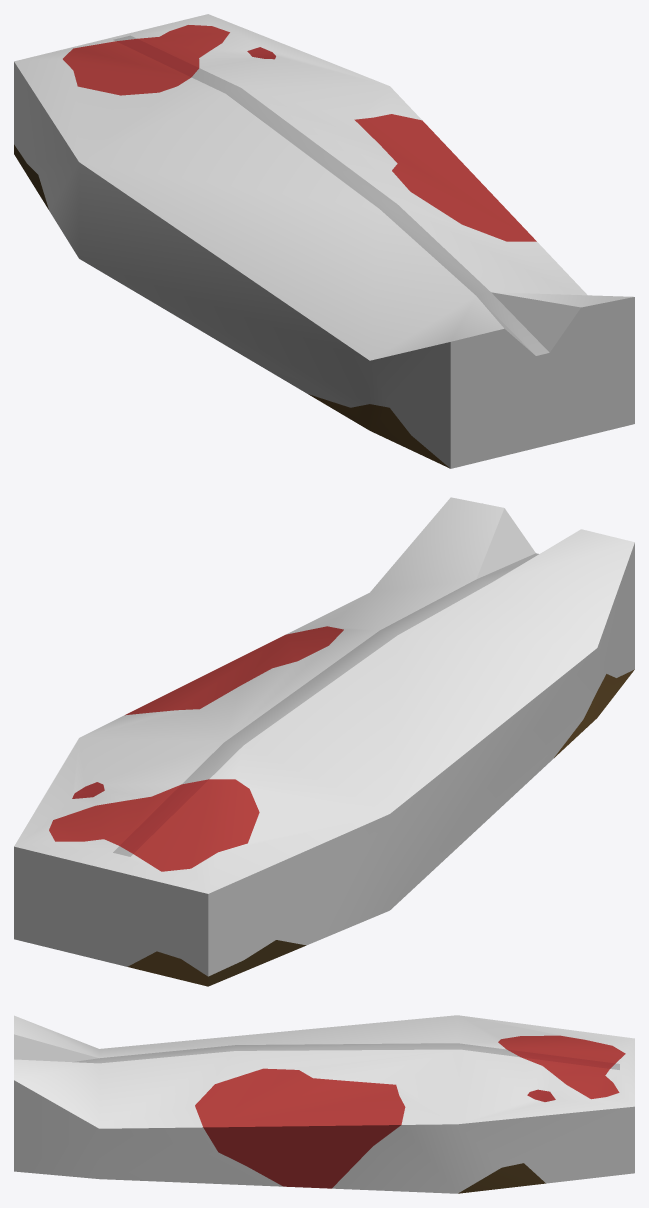
Rendered from SA_Prop_BodyBag_05.glb.
The picture shows the model from 3 angles, top to bottom: view 1: azimuth 30°, elevation 25°; view 2: azimuth 150°, elevation 25°; view 3: azimuth 270°, elevation 25°; orthographic projection. The views are drawn at different scales.
Parts seen in each view (by area): view 1: SA_Prop_BodyBag_05; view 2: SA_Prop_BodyBag_05; view 3: SA_Prop_BodyBag_05.
Part boxes in pixels (box(x1,y1,x2,y2)): SA_Prop_BodyBag_05: box(14, 14, 634, 468); SA_Prop_BodyBag_05: box(14, 497, 634, 986); SA_Prop_BodyBag_05: box(14, 1015, 634, 1193).
Size of the model in its own units: 0.5468 by 0.2178 by 1.31.
1 material, 1 textured.
